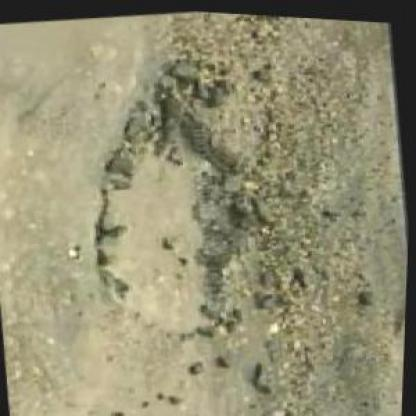pothole: (74, 78, 274, 350)
